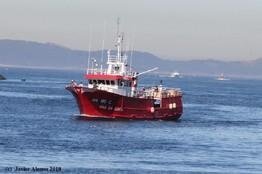otherboat: (62, 14, 186, 123)
